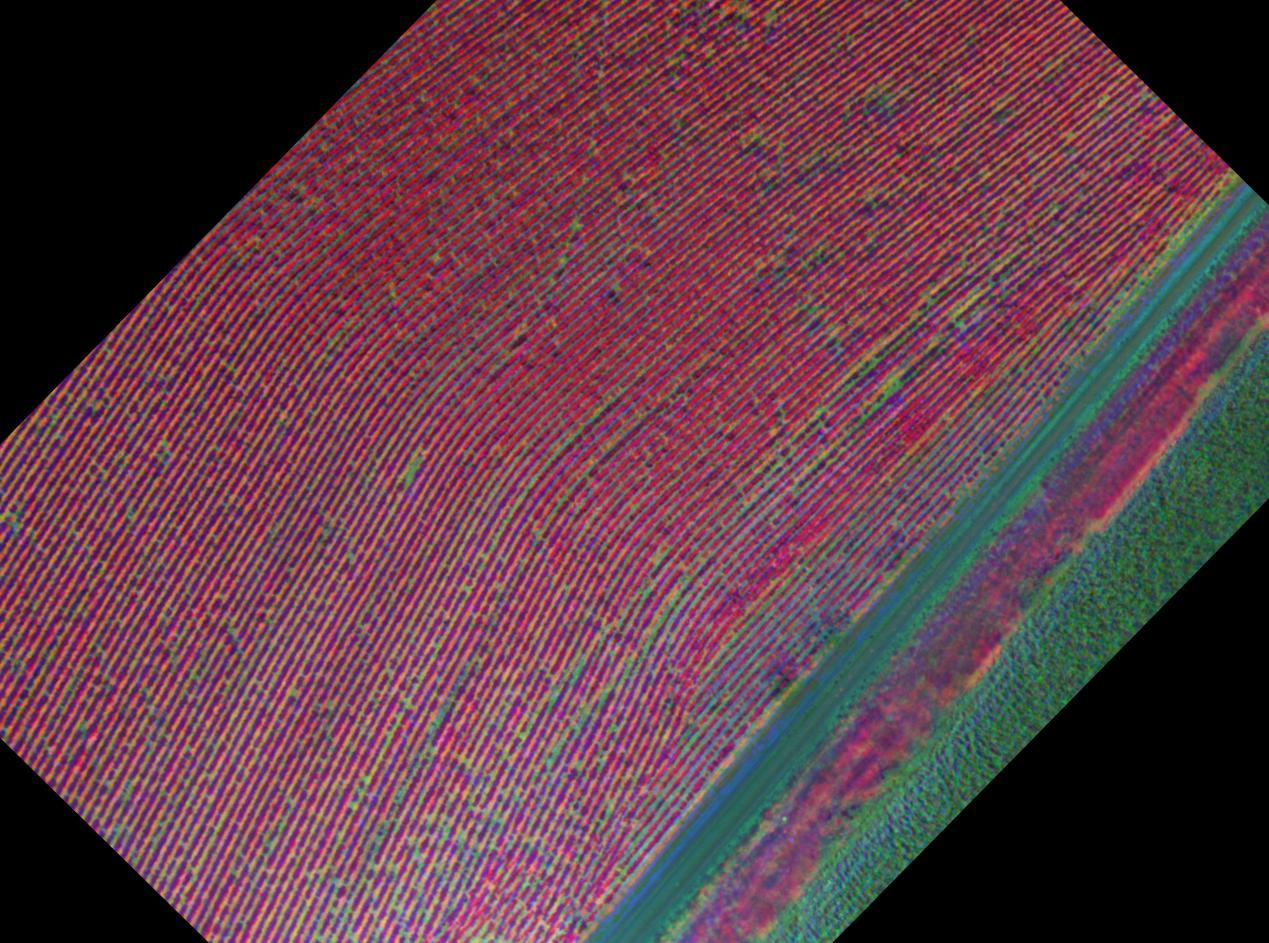dc: (125, 794, 130, 800), (365, 779, 369, 784), (1168, 236, 1172, 240), (959, 321, 963, 325), (329, 340, 333, 344), (129, 516, 133, 520), (1, 516, 4, 521), (467, 588, 470, 593), (572, 223, 576, 226), (816, 253, 819, 256)
